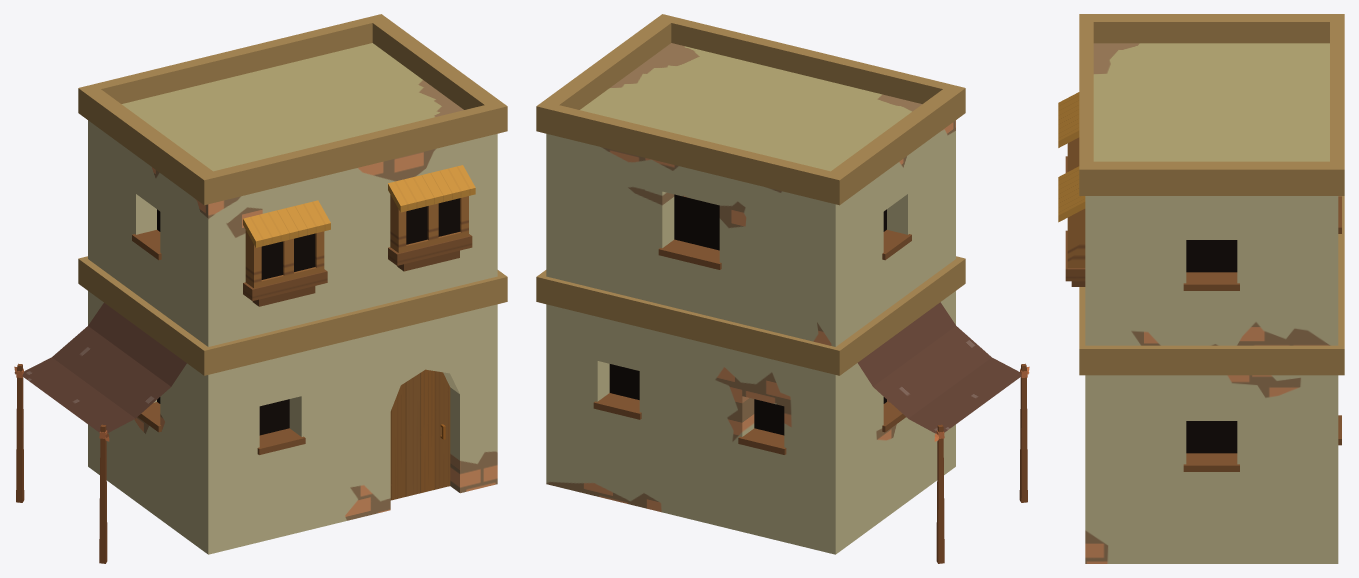
File: Desert Building 05.fbx
3 views of the same model, side by side, from view 1: azimuth 30°, elevation 25°; view 2: azimuth 150°, elevation 25°; view 3: azimuth 270°, elevation 25° (orthographic). The views are drawn at different scales.
Parts seen in each view (by area): view 1: Desert_Building_05, Door; view 2: Desert_Building_05; view 3: Desert_Building_05.
Boxes of the visible parts, left/top/right/bottom form: Desert_Building_05: left=14, top=14, right=507, bottom=563; Door: left=390, top=369, right=450, bottom=500; Desert_Building_05: left=536, top=14, right=1029, bottom=563; Desert_Building_05: left=1058, top=14, right=1344, bottom=563.
Size of the model in its own units: 668 by 624 by 407.
